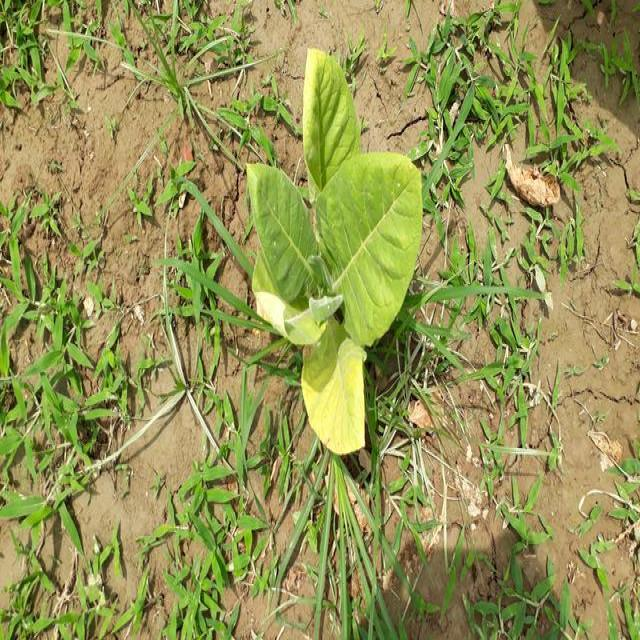crop: (236, 43, 424, 456)
